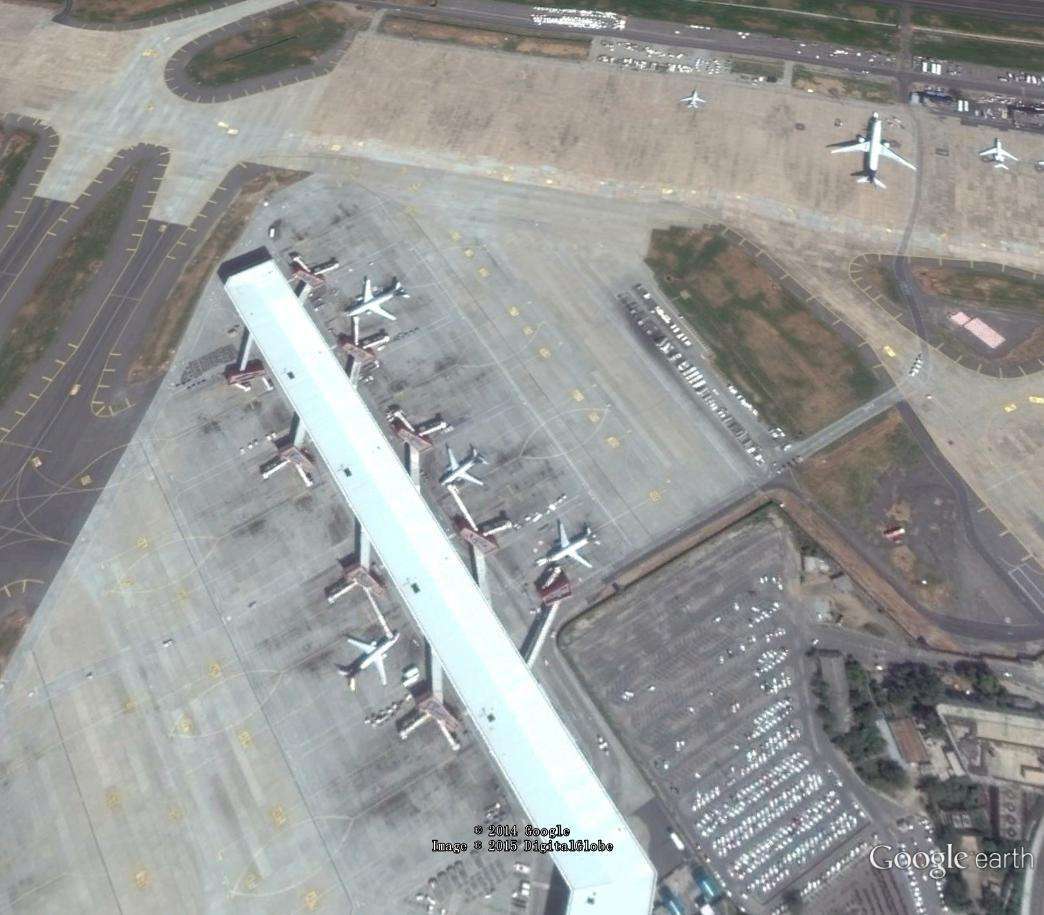aircraft: (823, 114, 924, 196), (328, 630, 406, 696), (532, 511, 607, 577), (345, 274, 418, 325), (435, 436, 492, 493), (975, 135, 1029, 175), (679, 85, 712, 114)
